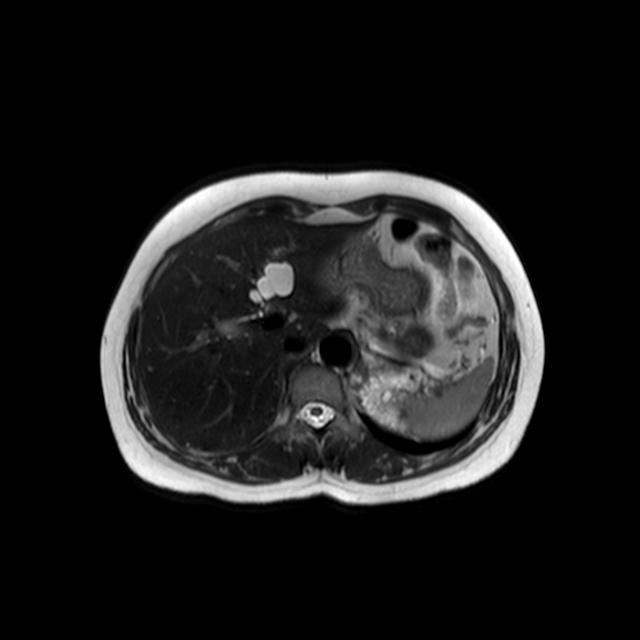sol: (359, 365, 442, 439)
